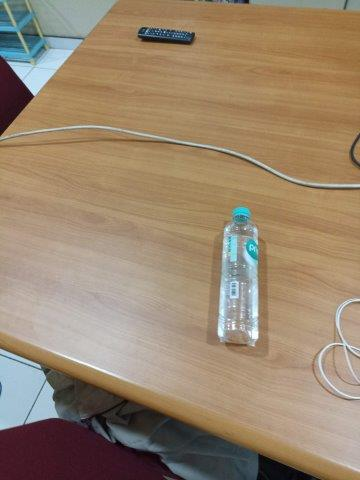botolplastik: (217, 206, 259, 345)
